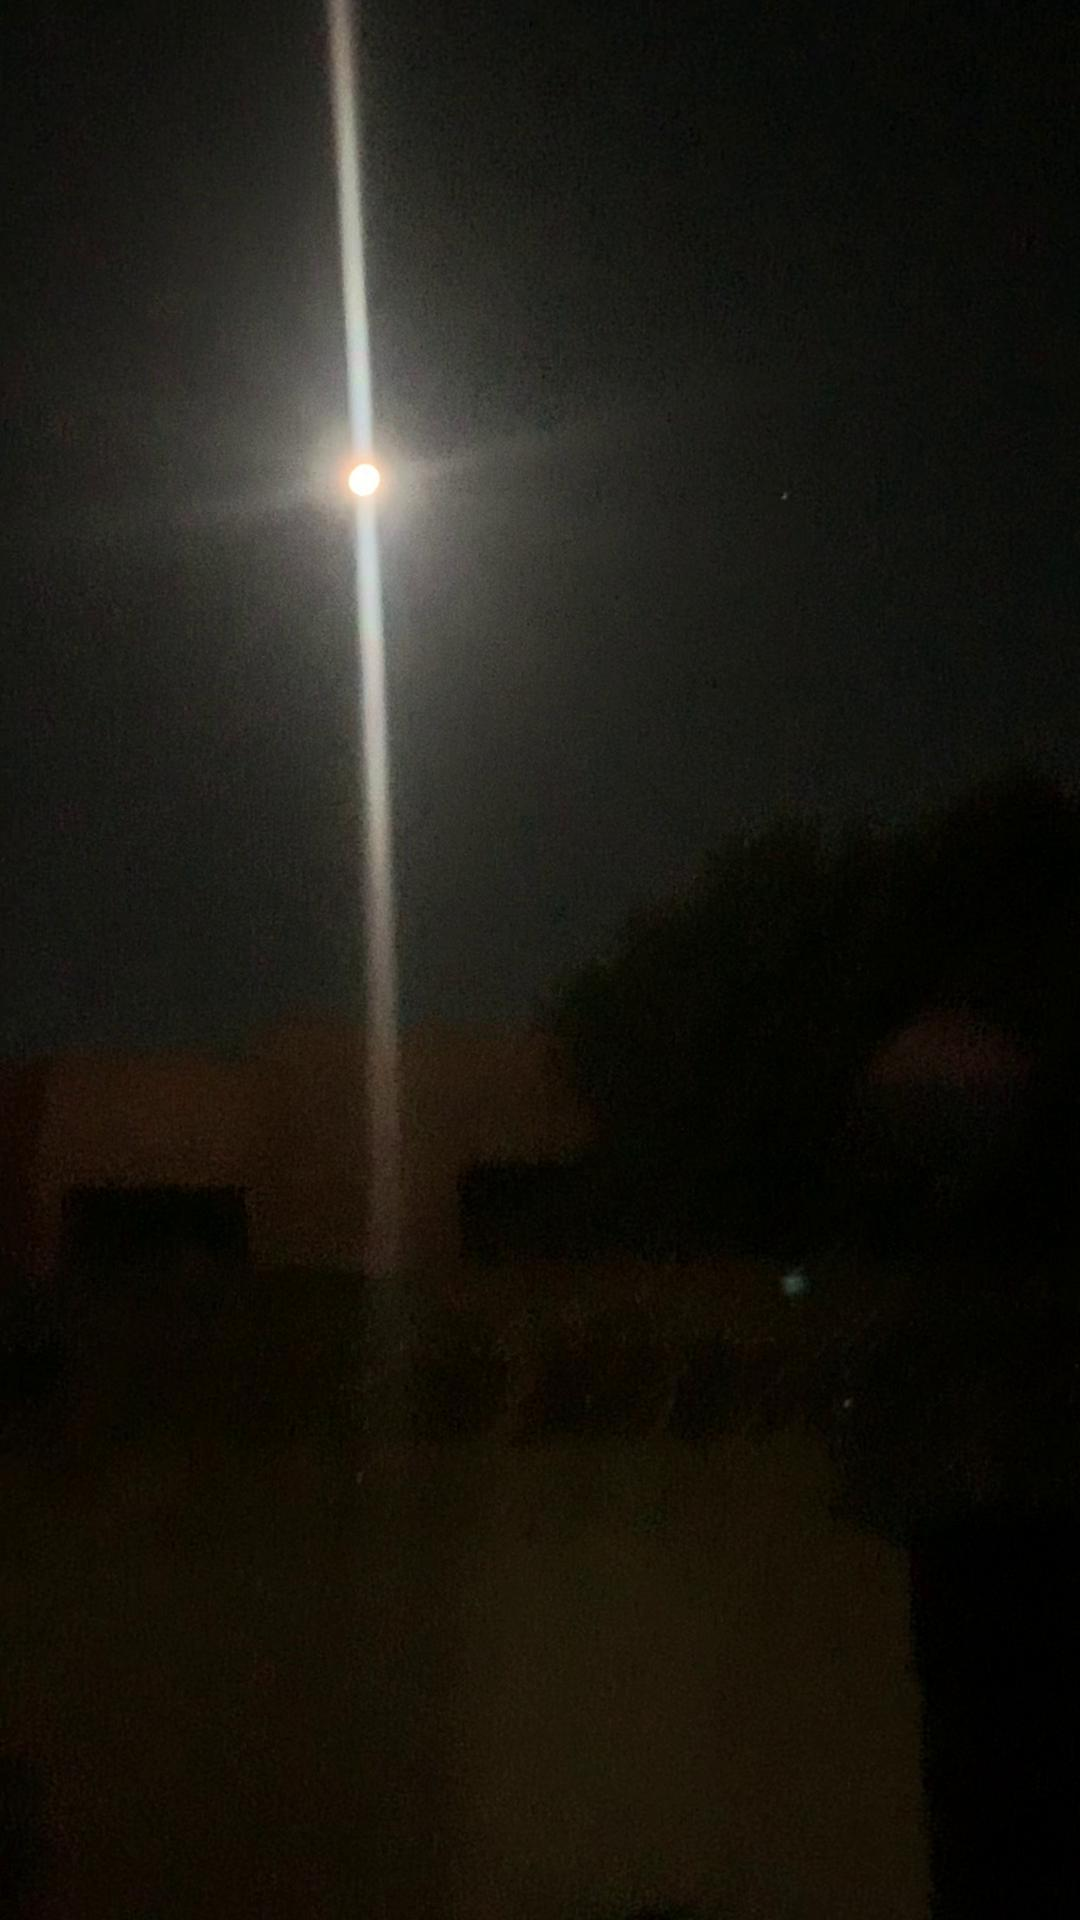moon: (314, 435, 418, 534)
